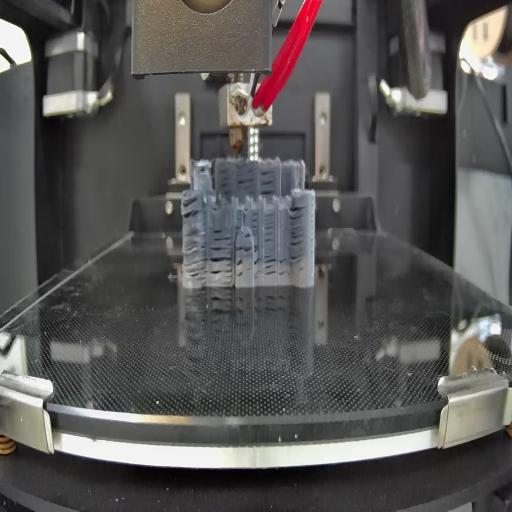cracks: (184, 228, 209, 284), (289, 204, 307, 262), (211, 244, 233, 285), (254, 256, 289, 278), (216, 166, 234, 198), (238, 166, 257, 196), (260, 168, 277, 196), (183, 196, 201, 222), (263, 210, 275, 246), (213, 226, 232, 242), (236, 244, 259, 256), (235, 257, 245, 280), (252, 209, 260, 230), (235, 220, 242, 236), (199, 165, 209, 176), (243, 230, 253, 240)
